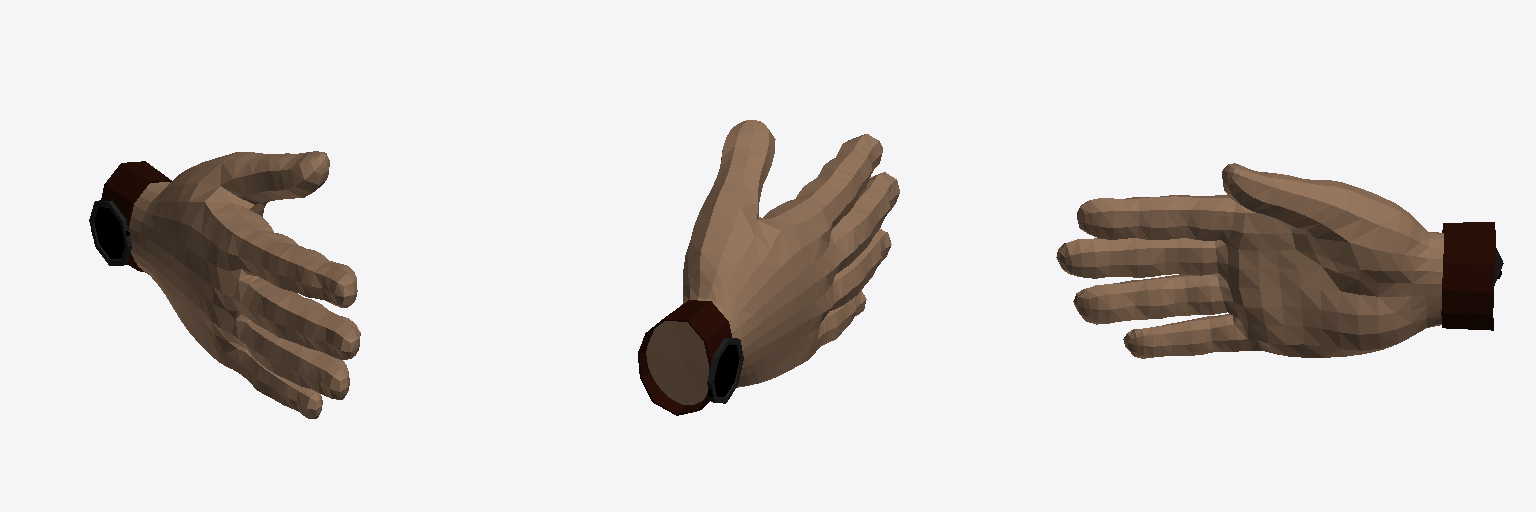
Rendered from Hand.obj.
3 renders of one model, left to right at view 1: azimuth 30°, elevation 25°; view 2: azimuth 150°, elevation 25°; view 3: azimuth 270°, elevation 25°, orthographic.
Parts seen in each view (by area): view 1: Hand_-_Stylized_, Strap, Watch; view 2: Hand_-_Stylized_, Strap, Watch; view 3: Hand_-_Stylized_, Strap.
Boxes of the visible parts, <box> form: Hand_-_Stylized_: <box>129,151,360,418</box>; Strap: <box>101,161,171,272</box>; Watch: <box>89,200,131,265</box>; Hand_-_Stylized_: <box>646,120,899,404</box>; Strap: <box>638,300,731,415</box>; Watch: <box>707,338,743,403</box>; Hand_-_Stylized_: <box>1056,163,1443,358</box>; Strap: <box>1441,222,1495,330</box>.
Size of the model in its own units: 0.0707 by 0.1326 by 0.2471.